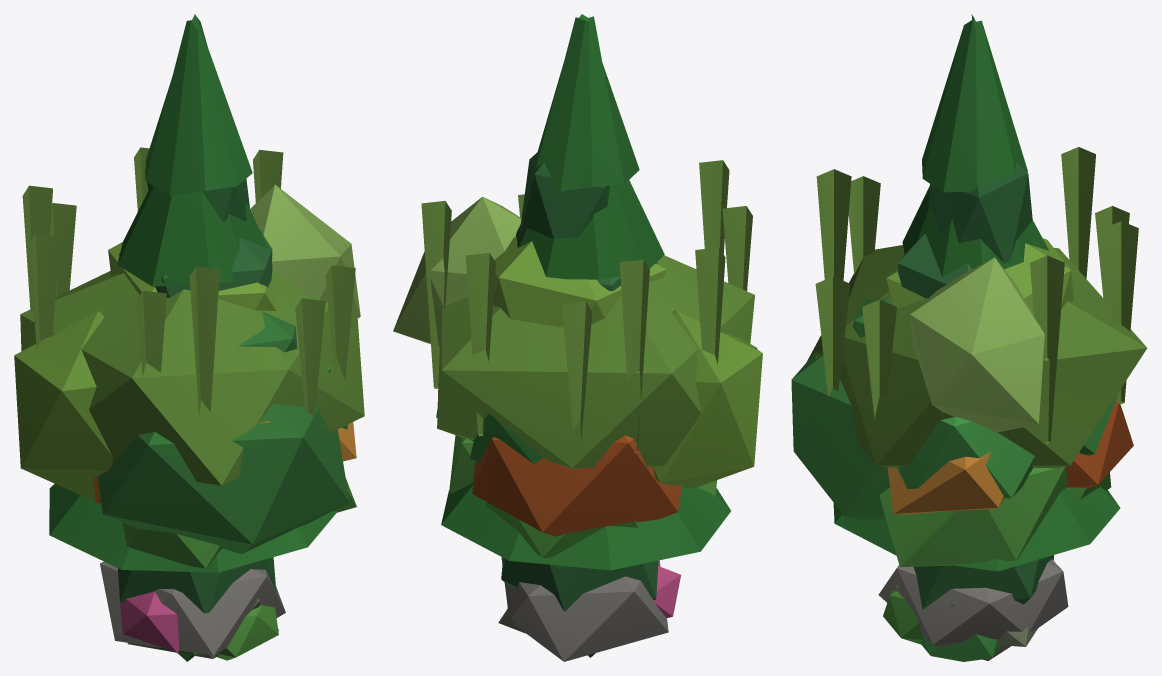
The model's file is props.glb.
3 views of the same model, side by side, from view 1: azimuth 30°, elevation 25°; view 2: azimuth 150°, elevation 25°; view 3: azimuth 270°, elevation 25° (orthographic).
Visible parts, largest first — view 1: tree_willow, tree_pine, tree_oak, tree_birch, tree_cypress, rock_big, bush_flower, tree_fruit, tree_autumn; view 2: tree_willow, tree_pine, tree_birch, tree_autumn, rock_big, tree_cypress, tree_fruit, tree_oak, bush_flower; view 3: tree_willow, tree_pine, tree_birch, tree_oak, tree_cypress, tree_fruit, rock_big, tree_autumn, bush_green, bush_flower, rock_mossy.
Part boxes in pixels (x1=…): tree_willow: x1=20, y1=147, x2=364, y2=485; tree_pine: x1=49, y1=14, x2=337, y2=572; tree_oak: x1=97, y1=311, x2=349, y2=553; tree_birch: x1=14, y1=184, x2=360, y2=501; tree_cypress: x1=118, y1=169, x2=276, y2=661; rock_big: x1=100, y1=561, x2=285, y2=655; bush_flower: x1=120, y1=592, x2=278, y2=660; tree_fruit: x1=122, y1=478, x2=356, y2=568; tree_autumn: x1=58, y1=421, x2=356, y2=504; tree_willow: x1=421, y1=160, x2=754, y2=468; tree_pine: x1=441, y1=14, x2=730, y2=570; tree_birch: x1=393, y1=196, x2=762, y2=488; tree_autumn: x1=472, y1=435, x2=681, y2=536; rock_big: x1=501, y1=557, x2=668, y2=661; tree_cypress: x1=501, y1=152, x2=658, y2=657; tree_fruit: x1=449, y1=435, x2=717, y2=568; tree_oak: x1=436, y1=344, x2=757, y2=463; bush_flower: x1=653, y1=566, x2=680, y2=617; tree_willow: x1=806, y1=147, x2=1147, y2=468; tree_pine: x1=833, y1=14, x2=1120, y2=571; tree_birch: x1=886, y1=238, x2=1073, y2=432; tree_oak: x1=791, y1=296, x2=1119, y2=520; tree_cypress: x1=898, y1=162, x2=1053, y2=609; tree_fruit: x1=879, y1=466, x2=1111, y2=567; rock_big: x1=878, y1=559, x2=1068, y2=660; tree_autumn: x1=815, y1=355, x2=1133, y2=514; bush_green: x1=920, y1=634, x2=1001, y2=661; bush_flower: x1=883, y1=590, x2=953, y2=644; rock_mossy: x1=896, y1=585, x2=1037, y2=646.
Bounding box in the file's own units: 3.47 × 6.45 × 3.26.
